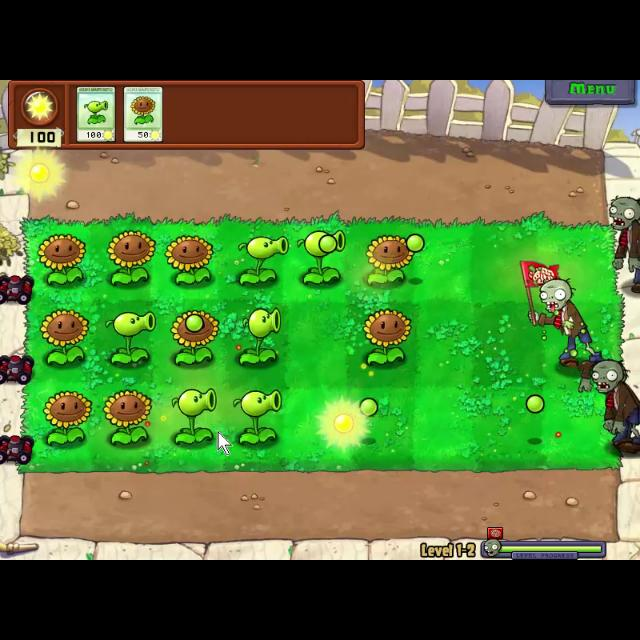Flag Zombie: (518, 258, 612, 372)
Garden: (19, 214, 622, 472)
Menu Button: (546, 80, 638, 106)
Mower: (0, 351, 32, 387), (1, 434, 34, 466), (1, 272, 32, 306)
Peashooter: (75, 82, 118, 144)
Peashooter Seed: (234, 304, 292, 368), (100, 307, 156, 371), (227, 384, 283, 448), (168, 386, 218, 450), (296, 227, 348, 286), (235, 232, 288, 288)
Seed Panel: (9, 80, 368, 154)
Sun: (312, 394, 378, 456), (15, 150, 63, 198)
Sunflower: (122, 85, 164, 145)
Sunflower Seed: (36, 307, 92, 368), (364, 228, 418, 290), (361, 308, 414, 370), (105, 228, 159, 286), (41, 389, 94, 446), (169, 305, 217, 367), (103, 389, 155, 446), (36, 232, 90, 286), (165, 232, 218, 286)
Zombie: (592, 358, 640, 457), (608, 192, 640, 296)
